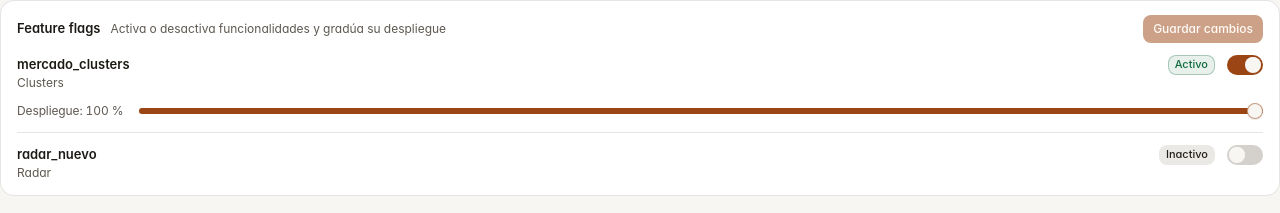
Test case: FeatureFlagsCard › descartar devuelve las flags a lo que dice el servidor
The width and height of the screenshot is (1280, 213).
Click the switch named "Activar mercado_clusters": (1245, 65) [1227,55,1263,75]
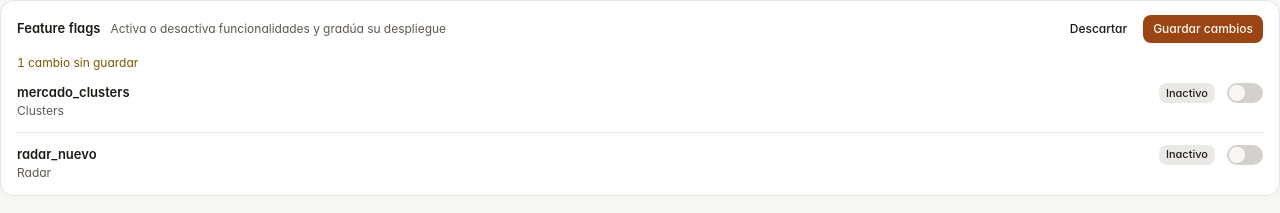
Click the button "Descartar": (1098, 29) [1060,15,1137,43]
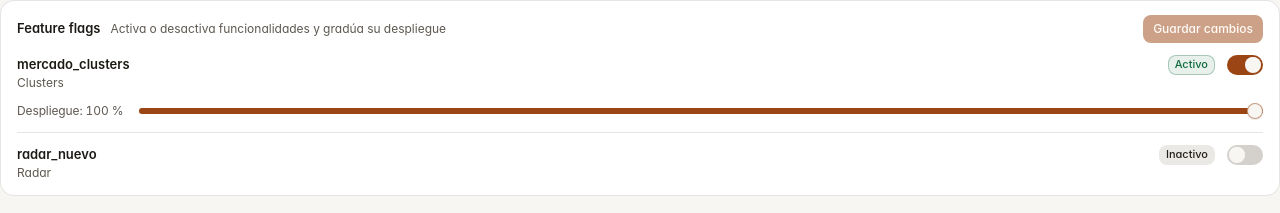
expect the switch named "Activar mercado_clusters" is checked: met, box [1227,55,1263,75]
expect the button "Guardar cambios" is disabled: met, box [1143,15,1263,43]
